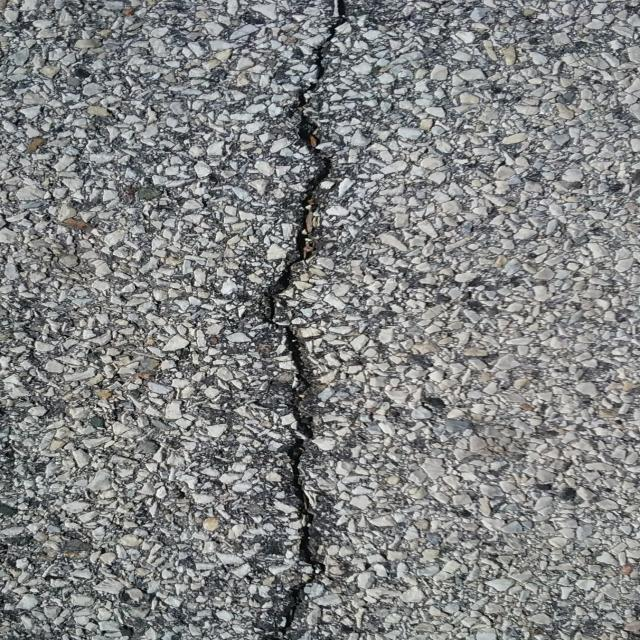Crack: (250, 0, 358, 640)
